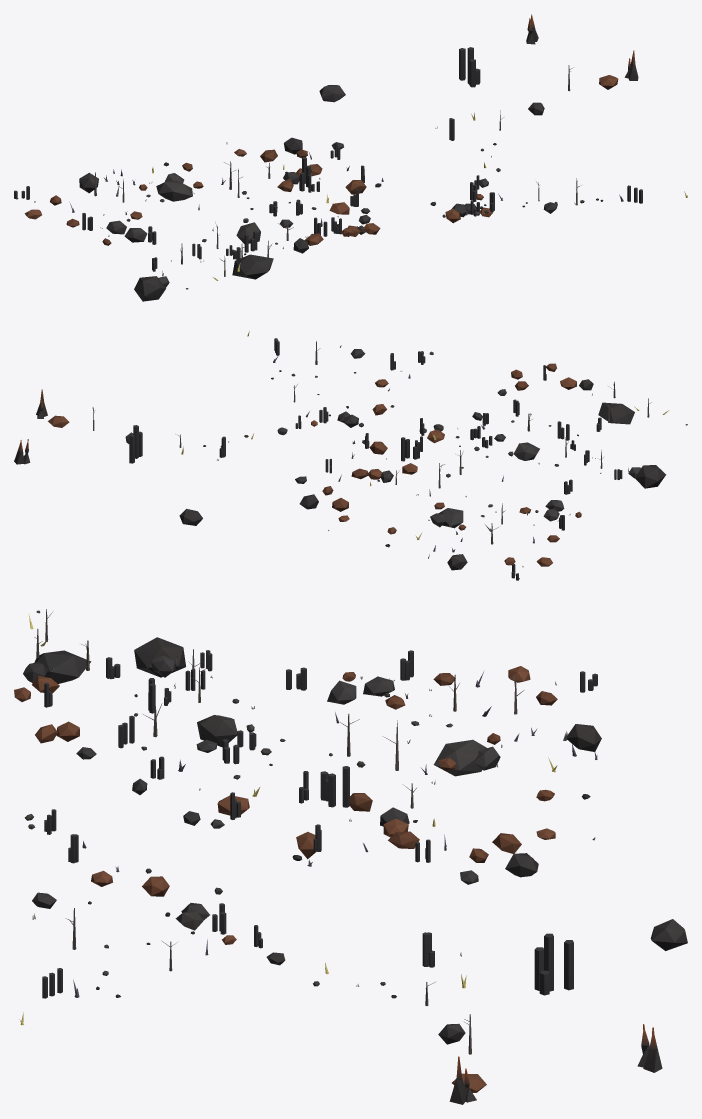
Rendered from ash_land_scatter_c21_27_lod1.glb.
The picture shows the model from 3 angles, top to bottom: view 1: azimuth 30°, elevation 25°; view 2: azimuth 150°, elevation 25°; view 3: azimuth 270°, elevation 25°; orthographic projection. The views are drawn at different scales.
Visible parts, largest first — view 1: ash_land_scatter_c21_27_lod1; view 2: ash_land_scatter_c21_27_lod1; view 3: ash_land_scatter_c21_27_lod1.
Part boxes in pixels (x1,y1,x2,y2): ash_land_scatter_c21_27_lod1: (14, 14, 687, 301); ash_land_scatter_c21_27_lod1: (14, 331, 687, 580); ash_land_scatter_c21_27_lod1: (14, 609, 687, 1104).
Bounding box in the file's own units: 175 × 22.44 × 110.
